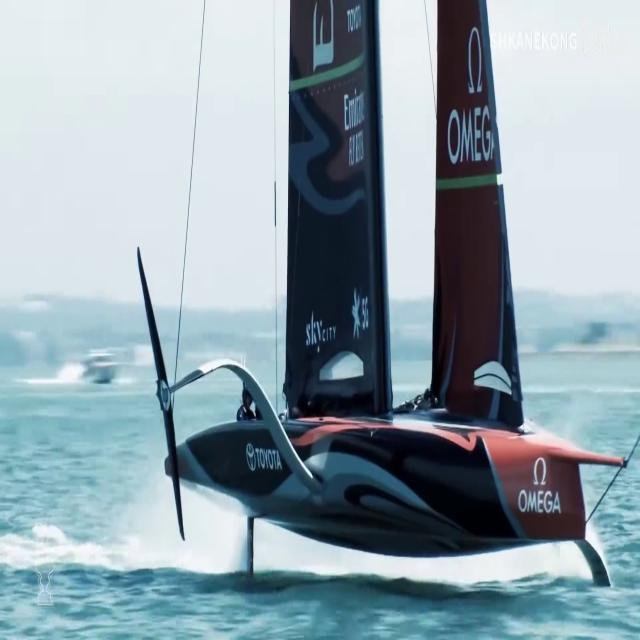sailboat: (129, 13, 618, 560)
